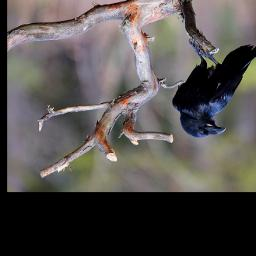Crow: (172, 41, 256, 139)
